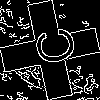C: (25, 25, 77, 69)
